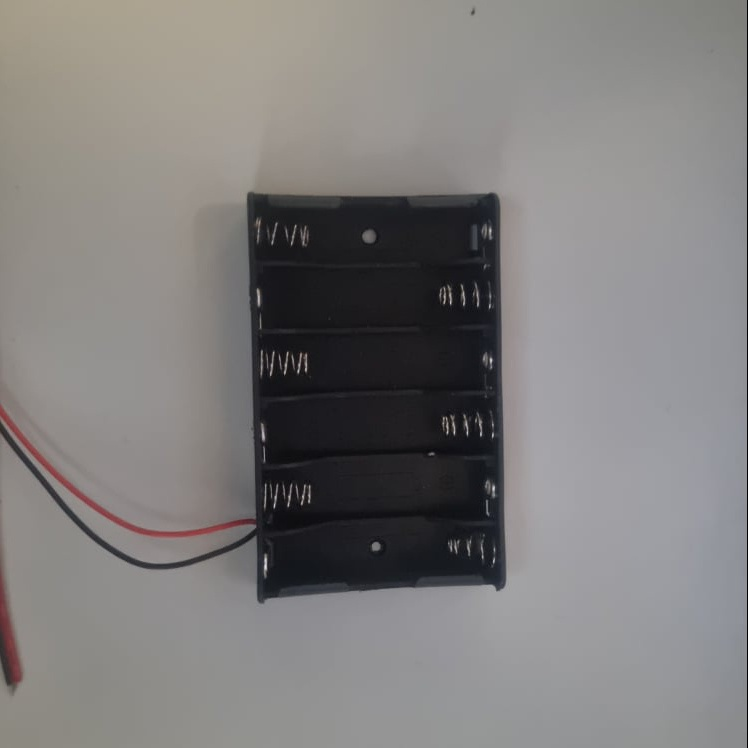BATTERY BOX: (250, 189, 508, 604)
